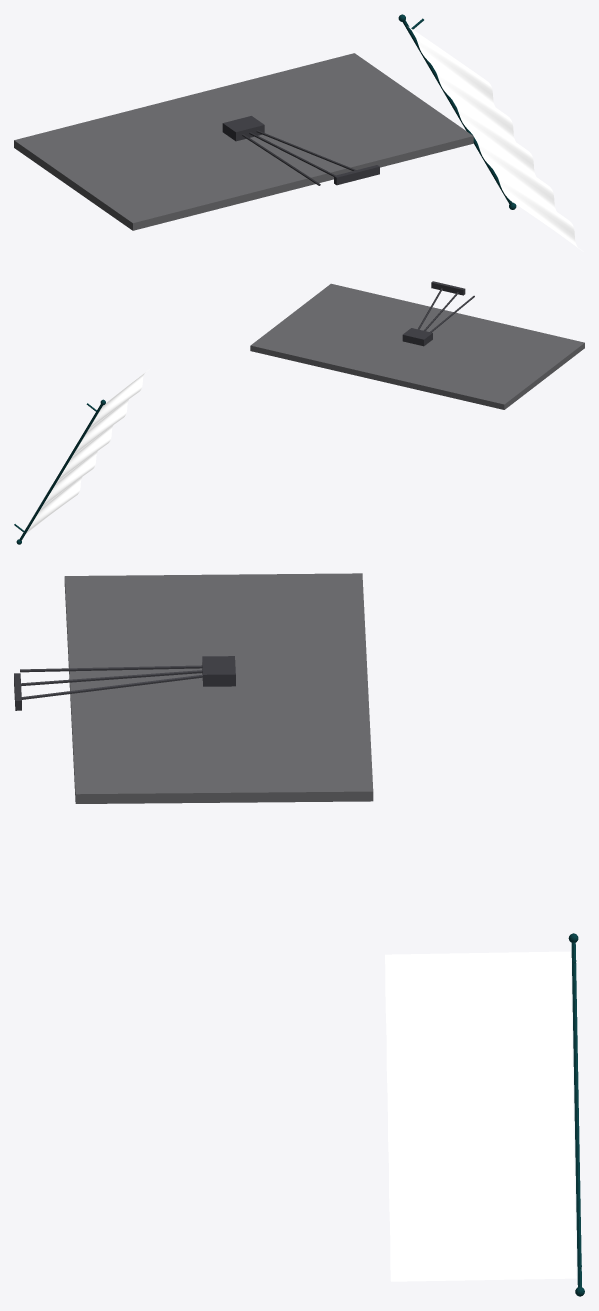
Rendered from museum_room_1.glb.
3 views of the same model, one above another, from view 1: azimuth 30°, elevation 25°; view 2: azimuth 150°, elevation 25°; view 3: azimuth 270°, elevation 25° (orthographic). The views are drawn at different scales.
Visible parts, largest first — view 1: Rückseite r1_title, Platzhalter r1_banner, Kabel Technik r1_title, Bannerstange r1_banner; view 2: Rückseite r1_title, Platzhalter r1_banner, Kabel Technik r1_title, Bannerstange r1_banner; view 3: Rückseite r1_title, Platzhalter r1_banner, Kabel Technik r1_title, Bannerstange r1_banner.
Part boxes in pixels (<box>): Rückseite r1_title: <box>14,53,473,230</box>; Platzhalter r1_banner: <box>408,26,583,251</box>; Kabel Technik r1_title: <box>222,116,379,185</box>; Bannerstange r1_banner: <box>398,14,516,209</box>; Rückseite r1_title: <box>250,283,584,409</box>; Platzhalter r1_banner: <box>26,369,149,533</box>; Kabel Technik r1_title: <box>402,281,474,346</box>; Bannerstange r1_banner: <box>14,399,105,544</box>; Rückseite r1_title: <box>64,573,373,803</box>; Platzhalter r1_banner: <box>385,951,576,1281</box>; Kabel Technik r1_title: <box>14,656,235,710</box>; Bannerstange r1_banner: <box>568,933,584,1296</box>.
Size of the model in its own units: 8.08 by 3.77 by 5.23.
